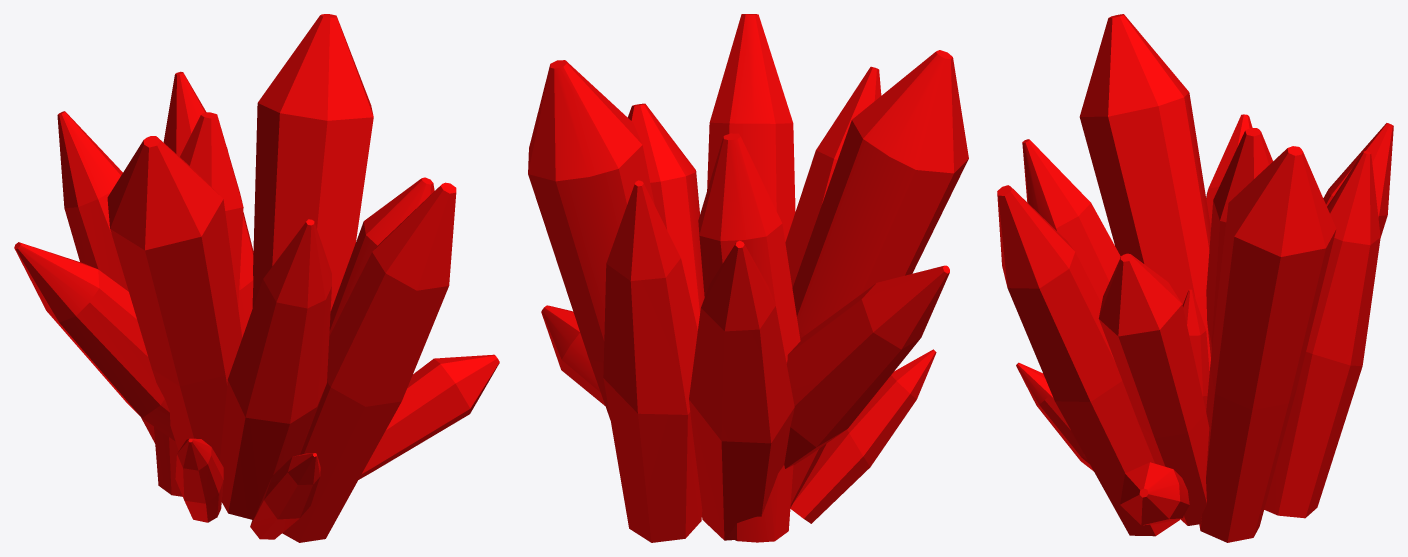
The model's file is Crystal_Bunch_Red.fbx.
3 views of the same model, side by side, from view 1: azimuth 30°, elevation 25°; view 2: azimuth 150°, elevation 25°; view 3: azimuth 270°, elevation 25° (orthographic). The views are drawn at different scales.
Visible parts, largest first — view 1: Model; view 2: Model; view 3: Model.
Part boxes in pixels (bbox=[...]): Model: bbox=[14, 14, 499, 542]; Model: bbox=[528, 14, 968, 542]; Model: bbox=[997, 14, 1393, 542].
Size of the model in its own units: 337 by 335 by 276.
